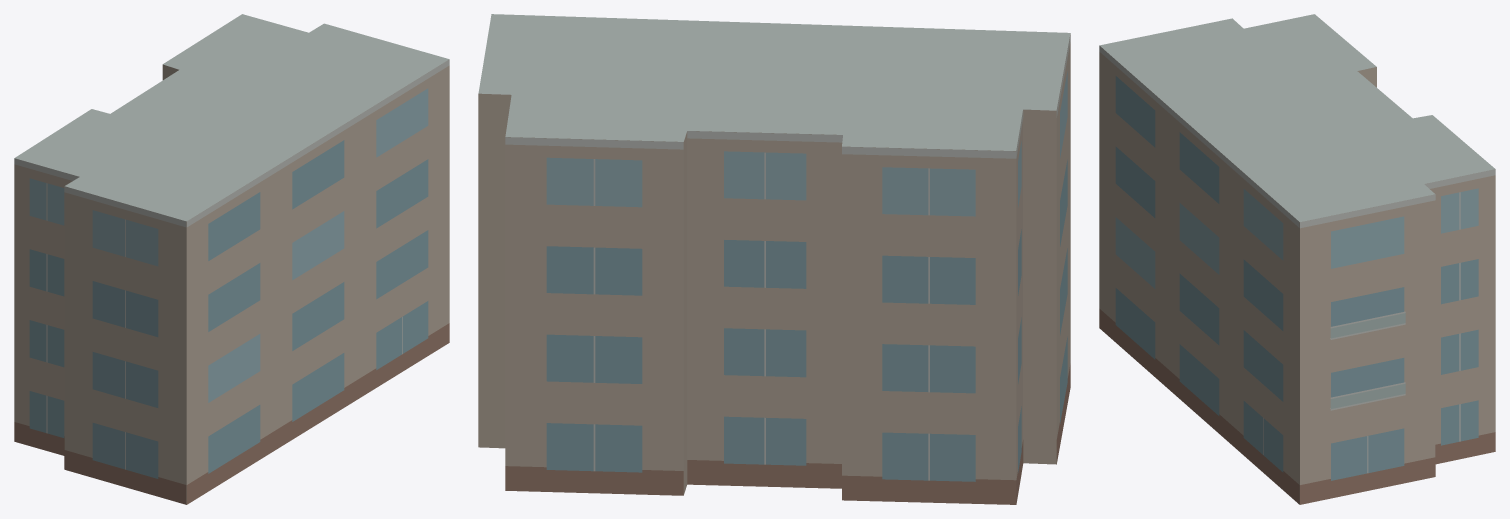
The model's file is survey-upis-32746743.glb.
3 renders of one model, left to right at view 1: azimuth 30°, elevation 25°; view 2: azimuth 150°, elevation 25°; view 3: azimuth 270°, elevation 25°, orthographic. The views are drawn at different scales.
Parts seen in each view (by area): view 1: survey-upis-32746743.tmp; view 2: survey-upis-32746743.tmp; view 3: survey-upis-32746743.tmp.
Part boxes in pixels (box(x1,y1,x2,y2)): survey-upis-32746743.tmp: box(14, 14, 449, 504); survey-upis-32746743.tmp: box(478, 14, 1070, 504); survey-upis-32746743.tmp: box(1099, 14, 1495, 504).
Bounding box in the file's own units: 17.86 × 11.3 × 14.37.
